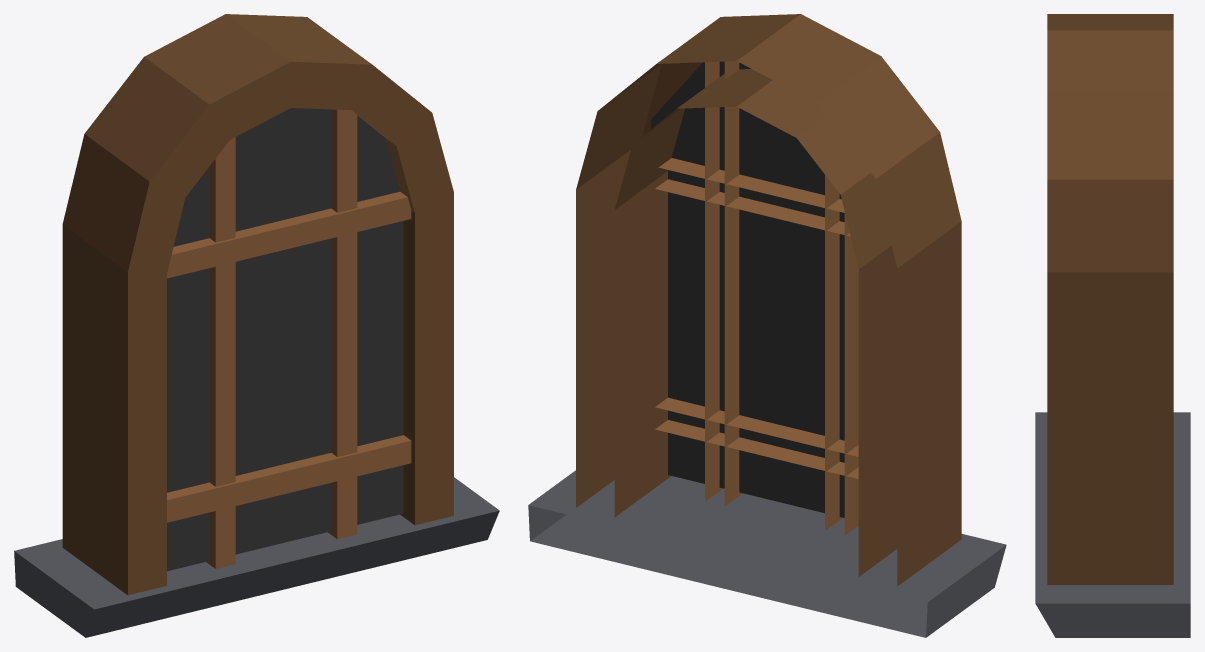
The model's file is Window_4.glb.
The picture shows the model from 3 angles, left to right: view 1: azimuth 30°, elevation 25°; view 2: azimuth 150°, elevation 25°; view 3: azimuth 270°, elevation 25°; orthographic projection. The views are drawn at different scales.
Visible parts, largest first — view 1: Window_4; view 2: Window_4; view 3: Window_4.
Boxes of the visible parts, x1,y1,x2,y2 form: Window_4: [14, 14, 499, 637]; Window_4: [528, 14, 1006, 637]; Window_4: [1035, 14, 1190, 637].
Size of the model in its own units: 0.447 by 0.5585 by 0.1532.
